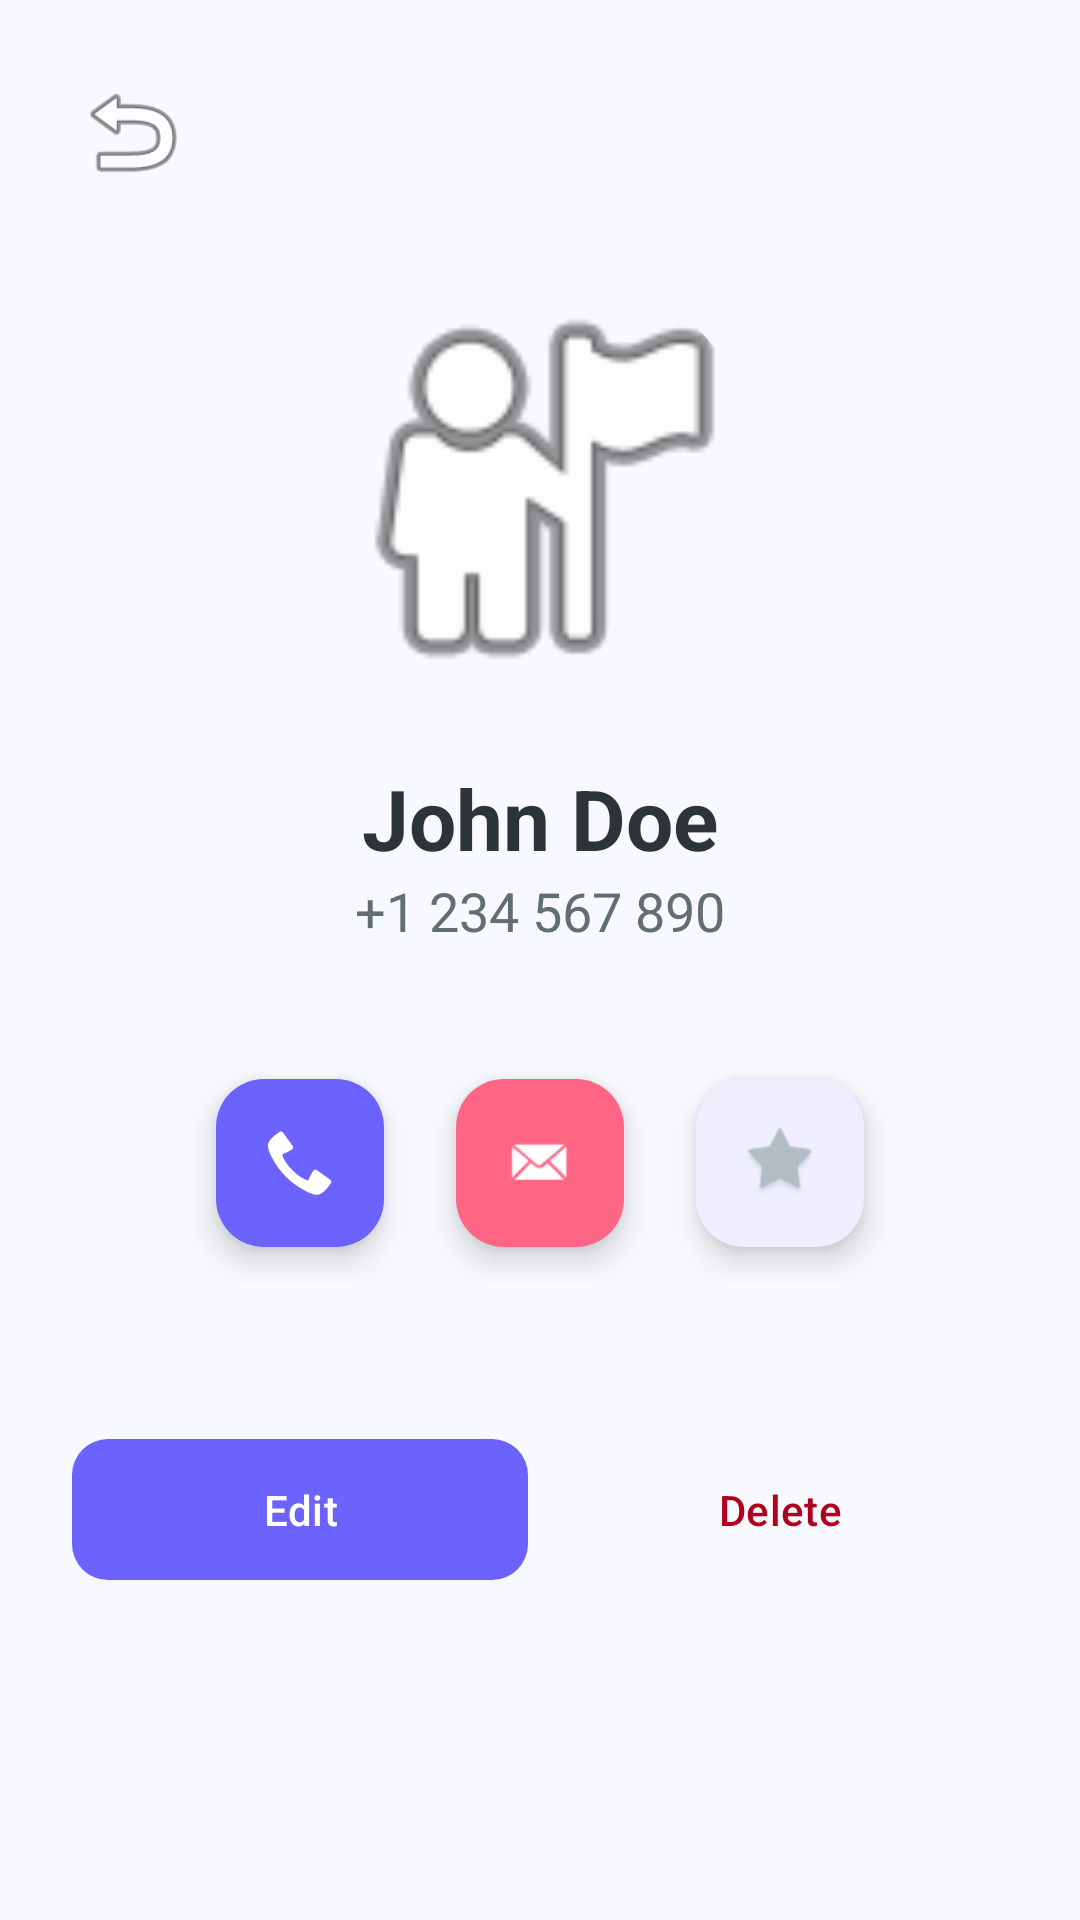

Named icons in this screenshot (1080px x 1920px) and their centers, [x,y]:
myplaces: [544,489]
phone call: [300,1163]
revert: [133,132]
star off: [780,1163]
sym action email: [540,1163]
